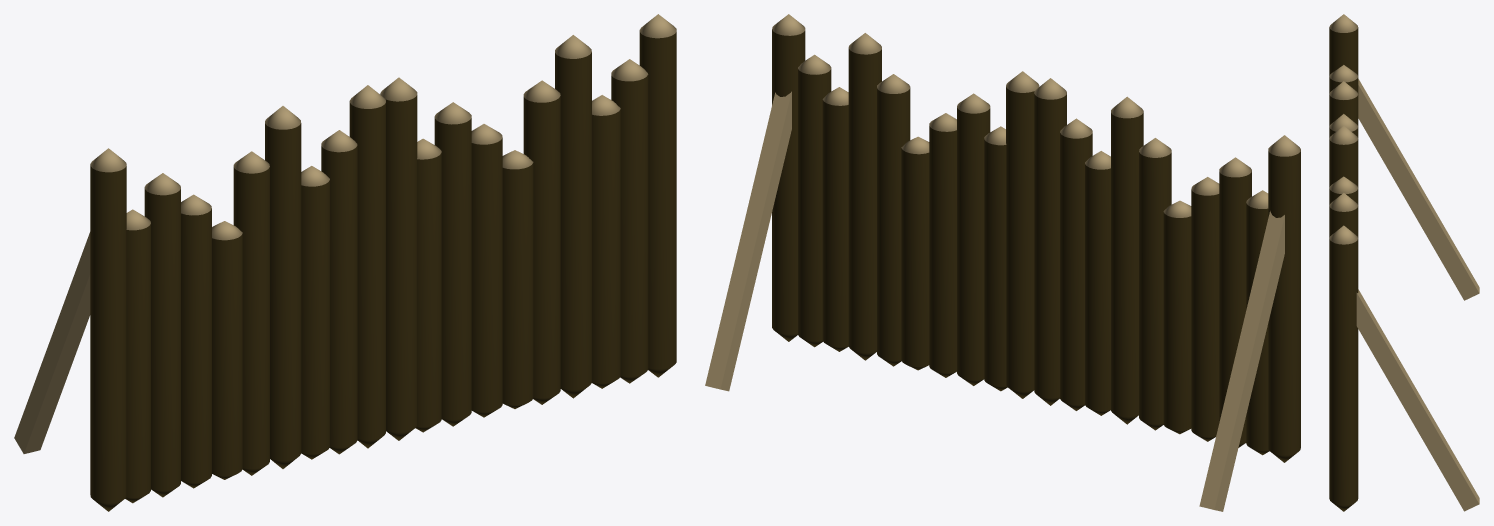
The model's file is Barricade.fbx.
3 views of the same model, side by side, from view 1: azimuth 30°, elevation 25°; view 2: azimuth 150°, elevation 25°; view 3: azimuth 270°, elevation 25° (orthographic). The views are drawn at different scales.
Parts seen in each view (by area): view 1: pCylinder1, pCylinder17, pCylinder7, pCylinder11, pCylinder20, pCylinder10, pCylinder14, pCylinder4, pCylinder16, pCylinder19, pCylinder6, pCylinder9 (+9 smaller); view 2: pCylinder17, pCylinder11, pCylinder1, pCylinder7, pCylinder10, pCylinder14, pCylinder16, pCylinder6, pCube2, pCylinder5, pCylinder19, pCube1 (+10 smaller); view 3: pCylinder20, pCube2, pCube1, pCylinder11, pCylinder1, pCylinder17, pCylinder7, pCylinder4, pCylinder14, pCylinder10.
Part boxes in pixels (left/top/right/bottom): pCylinder1: left=90, top=148, right=126, bottom=511; pCylinder17: left=555, top=35, right=591, bottom=398; pCylinder7: left=265, top=106, right=301, bottom=468; pCylinder11: left=380, top=77, right=417, bottom=440; pCylinder20: left=639, top=14, right=676, bottom=377; pCylinder10: left=349, top=85, right=385, bottom=448; pCylinder14: left=434, top=102, right=471, bottom=426; pCylinder4: left=144, top=173, right=180, bottom=497; pCylinder16: left=523, top=80, right=560, bottom=404; pCylinder19: left=611, top=59, right=648, bottom=383; pCylinder6: left=233, top=151, right=269, bottom=475; pCylinder9: left=321, top=130, right=357, bottom=454; pCylinder17: left=848, top=33, right=881, bottom=360; pCylinder11: left=1006, top=71, right=1039, bottom=398; pCylinder1: left=1268, top=135, right=1300, bottom=462; pCylinder7: left=1111, top=96, right=1143, bottom=424; pCylinder10: left=1034, top=78, right=1066, bottom=405; pCylinder14: left=957, top=93, right=990, bottom=385; pCylinder16: left=877, top=74, right=910, bottom=366; pCylinder6: left=1139, top=138, right=1171, bottom=430; pCube2: left=705, top=91, right=791, bottom=391; pCylinder5: left=1191, top=177, right=1219, bottom=441; pCylinder19: left=798, top=54, right=831, bottom=347; pCube1: left=1199, top=211, right=1284, bottom=511; pCylinder20: left=1329, top=225, right=1358, bottom=511; pCube2: left=1356, top=289, right=1479, bottom=511; pCube1: left=1358, top=79, right=1479, bottom=300; pCylinder11: left=1329, top=126, right=1358, bottom=187; pCylinder1: left=1329, top=14, right=1358, bottom=75; pCylinder17: left=1329, top=193, right=1358, bottom=237; pCylinder7: left=1329, top=81, right=1358, bottom=126; pCylinder4: left=1329, top=65, right=1358, bottom=93; pCylinder14: left=1329, top=176, right=1358, bottom=205; pCylinder10: left=1329, top=114, right=1358, bottom=138.
Size of the model in its own units: 3.68 by 2.2 by 1.04.
